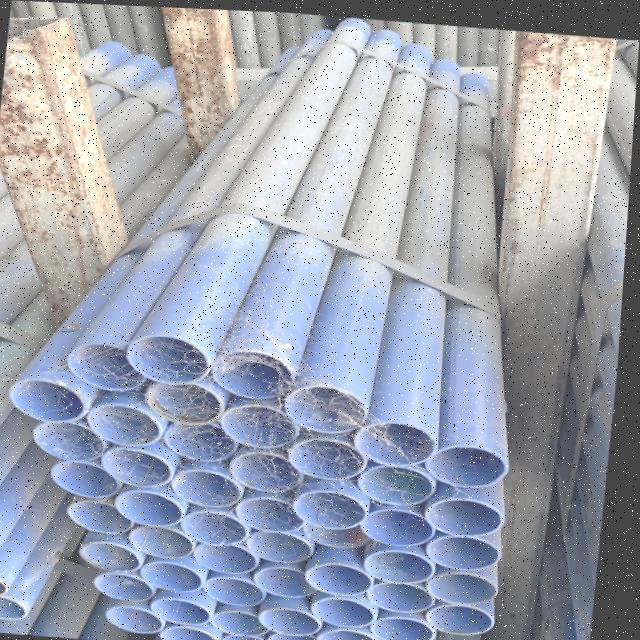pipe: (286, 376, 378, 431), (129, 329, 220, 384), (214, 343, 304, 397), (68, 338, 153, 392), (359, 414, 446, 464), (148, 374, 233, 424), (12, 374, 95, 424), (225, 397, 308, 447), (432, 436, 518, 484), (294, 431, 376, 479), (364, 456, 446, 503), (90, 398, 170, 446), (430, 489, 516, 533), (234, 444, 312, 492), (298, 482, 378, 528), (168, 415, 248, 461), (366, 500, 446, 544), (36, 418, 114, 462), (106, 443, 182, 488), (434, 526, 514, 568), (178, 464, 254, 508), (121, 485, 195, 527), (54, 457, 129, 498), (370, 541, 446, 579), (242, 492, 316, 530), (188, 505, 259, 544), (434, 564, 510, 600), (434, 596, 508, 632), (72, 496, 145, 532), (312, 556, 384, 592), (134, 522, 206, 558), (252, 524, 324, 560), (200, 536, 270, 572), (374, 575, 448, 609), (261, 560, 329, 596), (148, 557, 217, 592), (308, 512, 379, 546), (319, 590, 389, 624), (86, 537, 154, 572), (100, 566, 168, 600), (211, 571, 278, 604), (378, 609, 449, 640), (156, 592, 224, 624), (114, 600, 178, 632), (268, 602, 334, 632), (222, 605, 281, 635), (326, 622, 394, 640), (170, 621, 233, 640), (276, 627, 340, 640), (230, 629, 290, 640)
